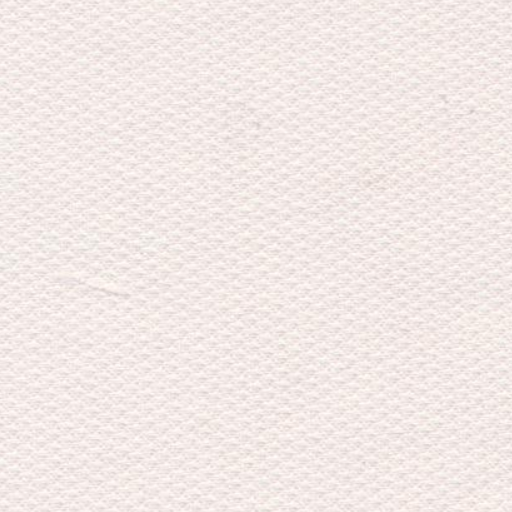DuanSha: (40, 247, 140, 314)
